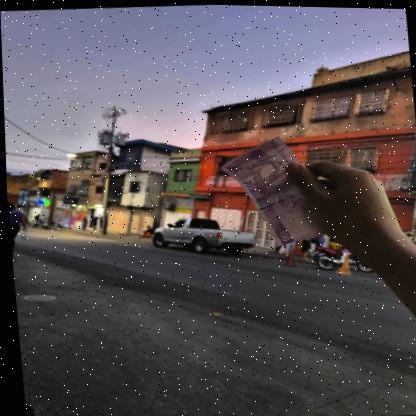one_hundred-back-vef: (215, 129, 325, 249)
